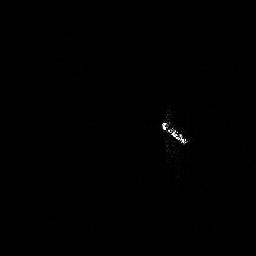ship: (161, 120, 189, 146)
